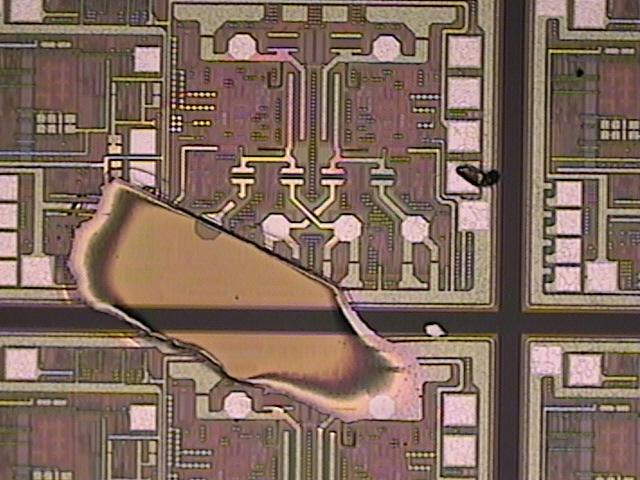BLOCK ETCH: (64, 152, 502, 428)
